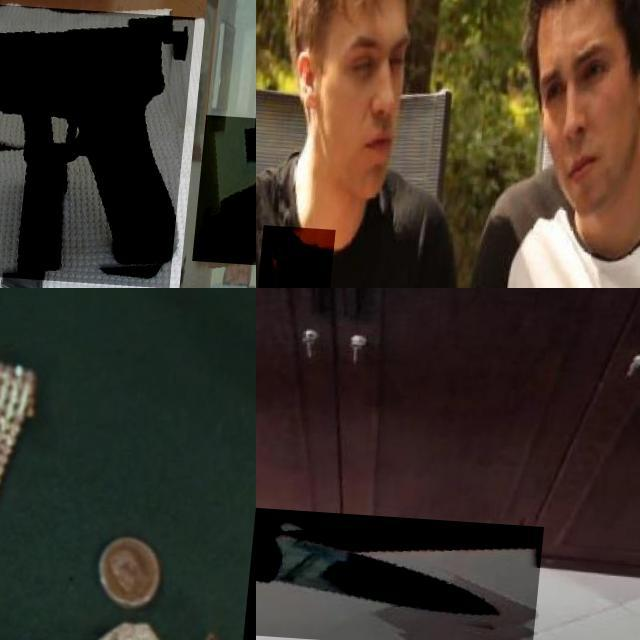-: (256, 503, 550, 640), (256, 223, 342, 288)
gun-knife-thesis - v11 Yolov5 augmented: (0, 288, 169, 640), (0, 0, 195, 284), (197, 110, 256, 265)
